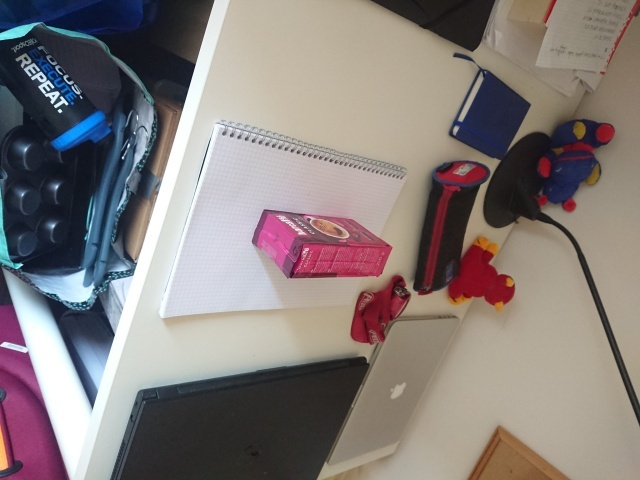Barcaffe Classic Original 225g: (249, 207, 395, 282)
